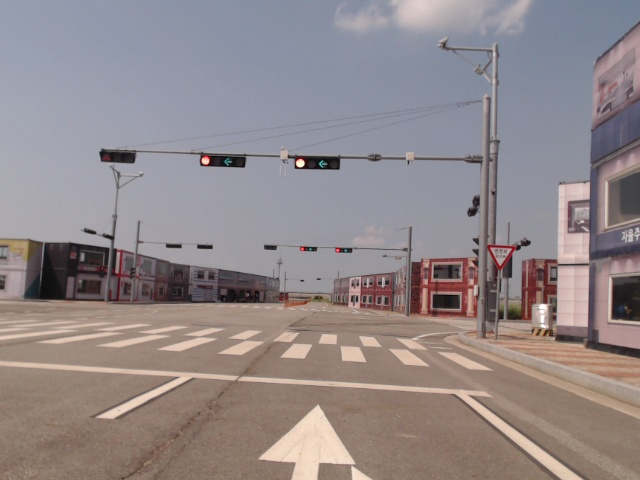left_green_4: (295, 156, 340, 170), (201, 155, 245, 169), (335, 248, 352, 253), (301, 247, 317, 252)
